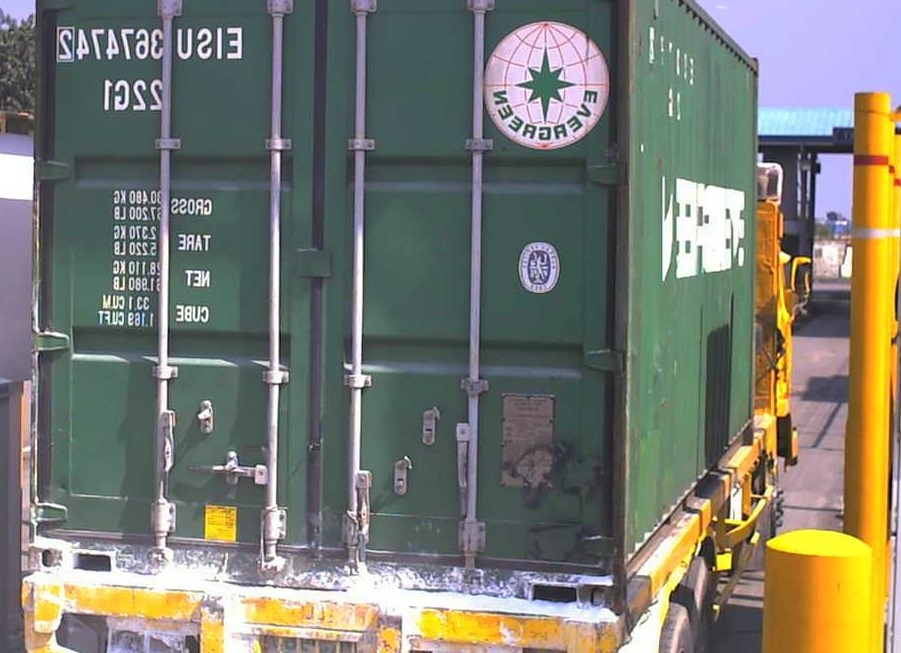container_door: (39, 1, 627, 613)
